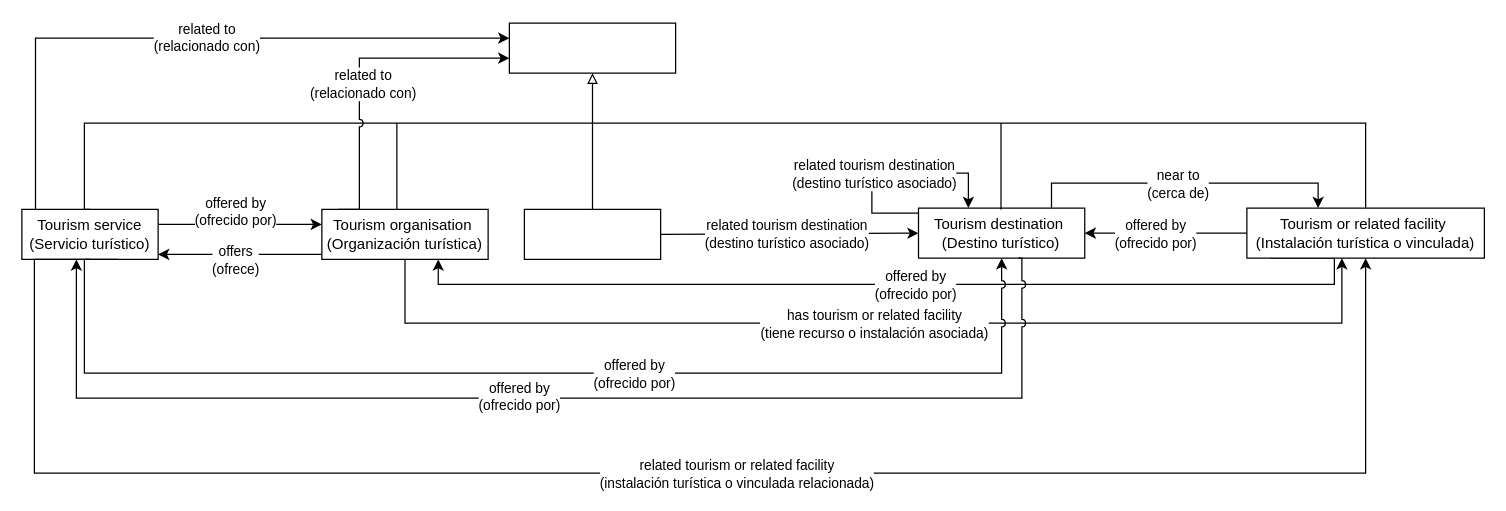
The diagram is 1506 pixels wide and 511 high, and some of its shapes have lost their labels. The shapes that lost their labels are listed below. From the top down, each one's centre as x and y in pixels, then its label:
At (592,47): "Tourism entity (Entidad turística)".
At (592,233): "Tourism resource (Recurso turístico)".
